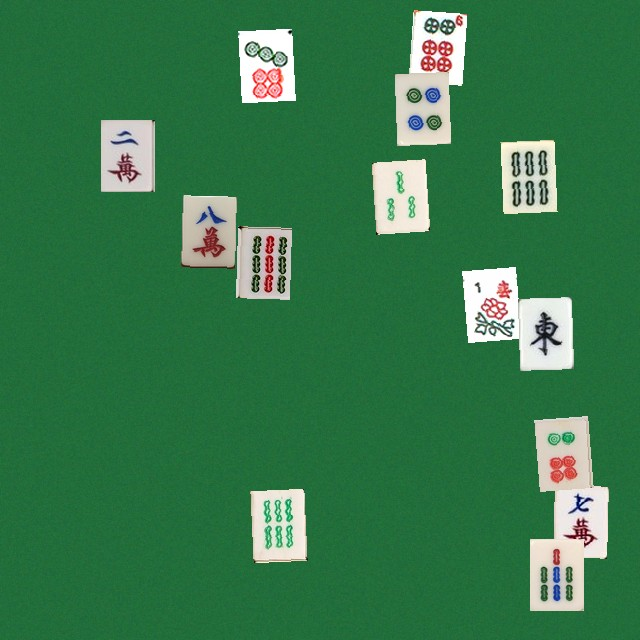tile: (100, 119, 154, 191), (238, 28, 292, 100), (462, 266, 516, 338), (408, 10, 462, 82), (553, 485, 607, 557), (181, 195, 235, 267), (394, 72, 448, 144), (529, 538, 583, 610), (517, 297, 571, 369), (500, 139, 554, 211), (235, 226, 289, 298), (371, 159, 425, 231), (534, 416, 588, 488), (250, 488, 304, 560)
